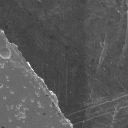corrosion: (1, 47, 11, 60), (15, 111, 26, 121), (34, 90, 40, 97), (37, 100, 42, 108), (29, 96, 35, 102), (9, 89, 15, 95), (15, 104, 21, 110), (1, 62, 5, 69), (21, 97, 26, 102), (2, 95, 7, 100), (1, 81, 4, 89)
